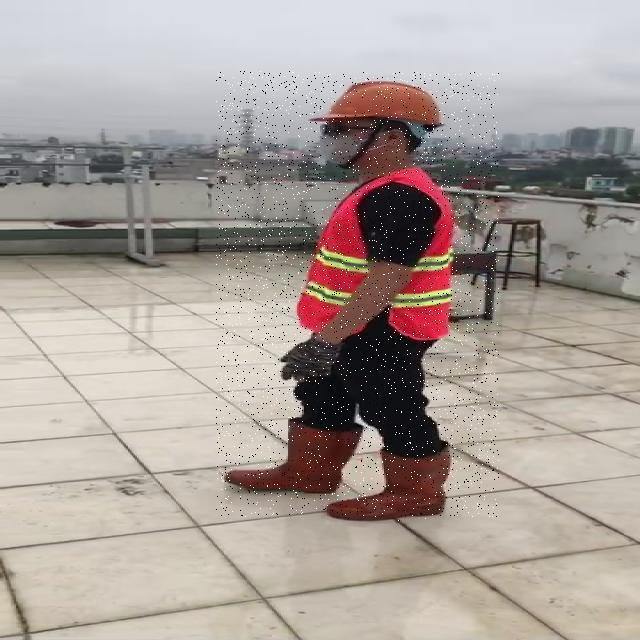boots: (225, 417, 363, 493), (325, 441, 451, 521)
gloves: (280, 332, 340, 383)
hard-hat: (308, 80, 444, 131)
person: (224, 79, 456, 521)
vest: (281, 165, 459, 343)
